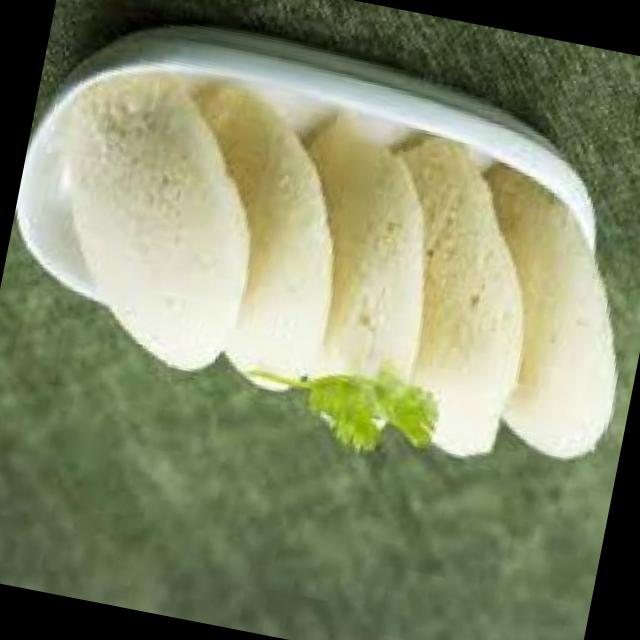idli: (28, 58, 283, 378), (142, 76, 369, 398), (347, 132, 560, 464), (252, 109, 458, 452), (434, 158, 640, 465)
